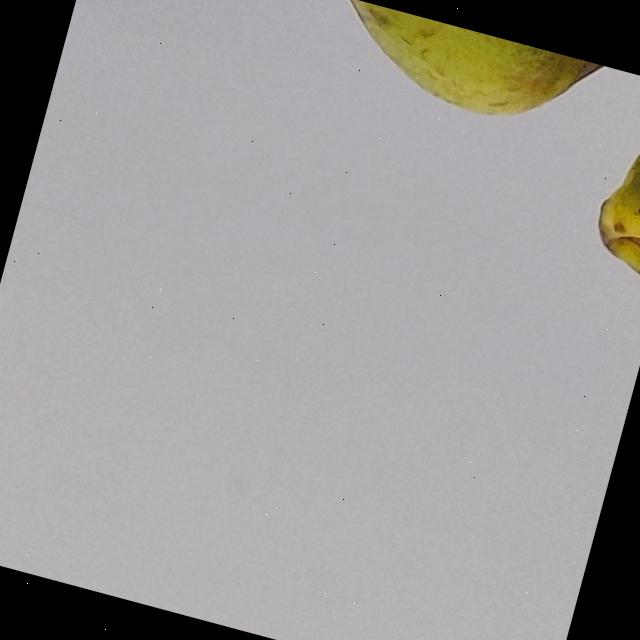mangosteen: (28, 0, 640, 340)
